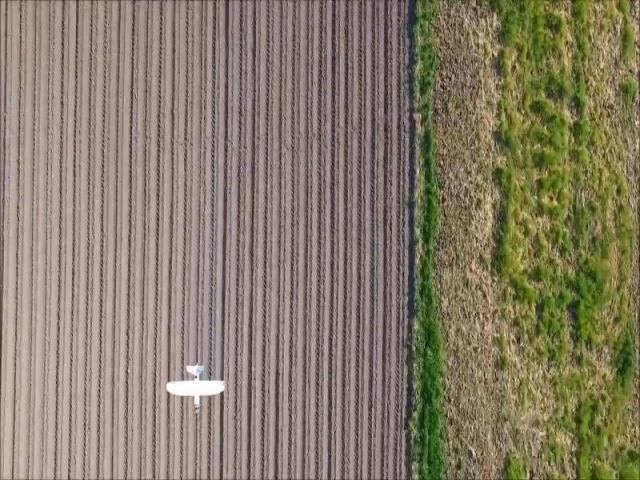hedef: (162, 358, 232, 418)
